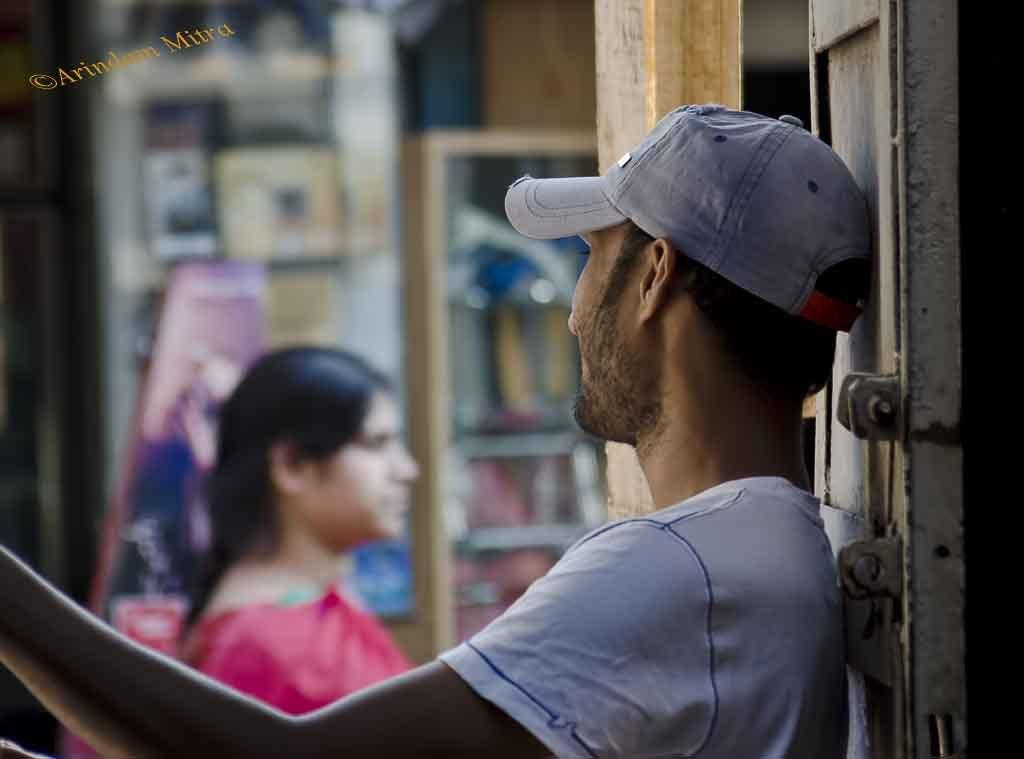Hat: (505, 100, 877, 332)
